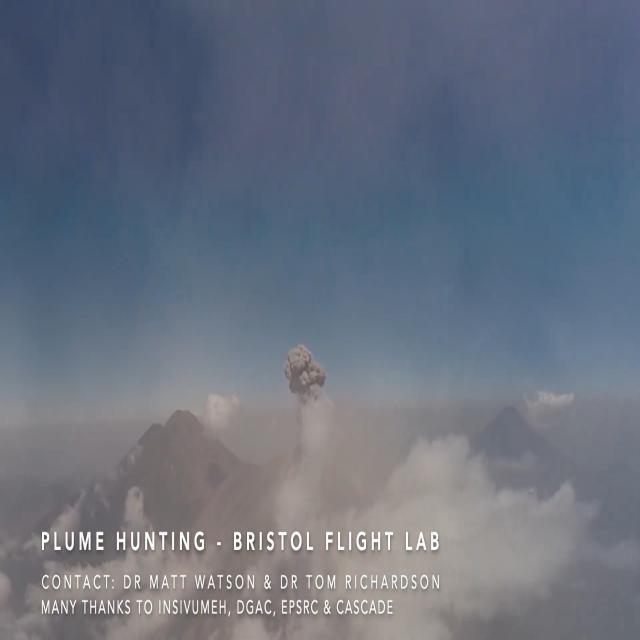Plume: (283, 342, 326, 408)
